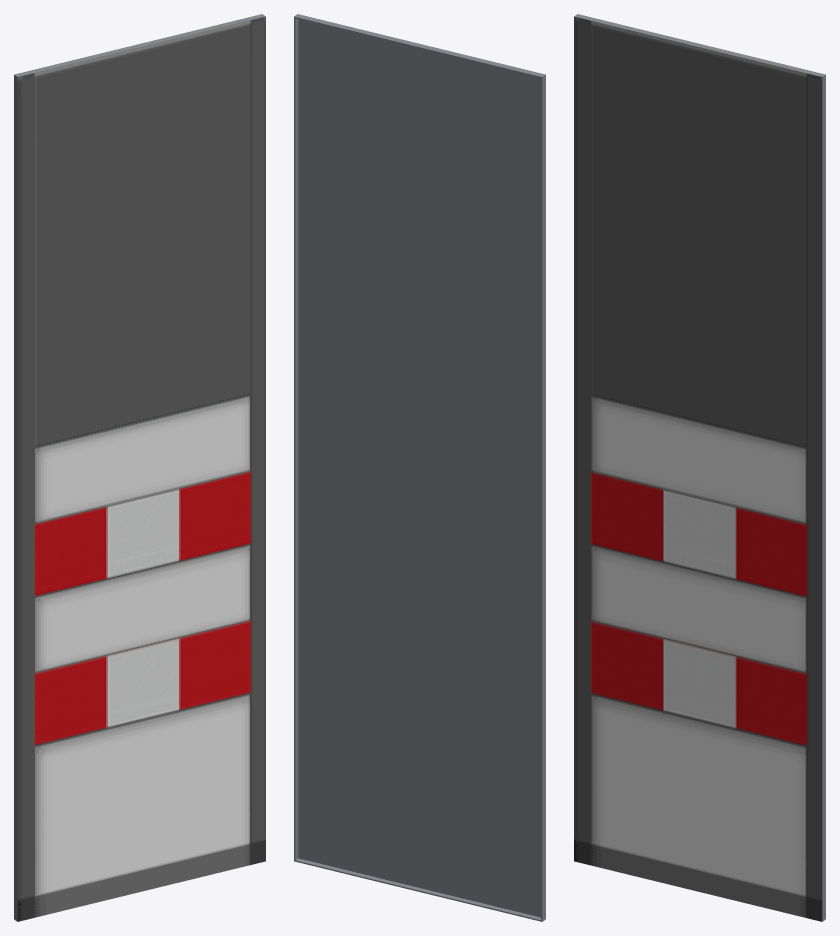
3 views of the same model, side by side, from view 1: azimuth 30°, elevation 25°; view 2: azimuth 150°, elevation 25°; view 3: azimuth 330°, elevation 25° (orthographic).
Visible parts, largest first — view 1: cat_0497ade0a94b0615; view 2: cat_0497ade0a94b0615; view 3: cat_0497ade0a94b0615.
Boxes of the visible parts, bbox=[...] form: cat_0497ade0a94b0615: bbox=[14, 14, 265, 921]; cat_0497ade0a94b0615: bbox=[294, 14, 545, 921]; cat_0497ade0a94b0615: bbox=[574, 14, 825, 921].
Size of the model in its own units: 0.6 by 0.015 by 1.95.
2 materials, 1 textured.
